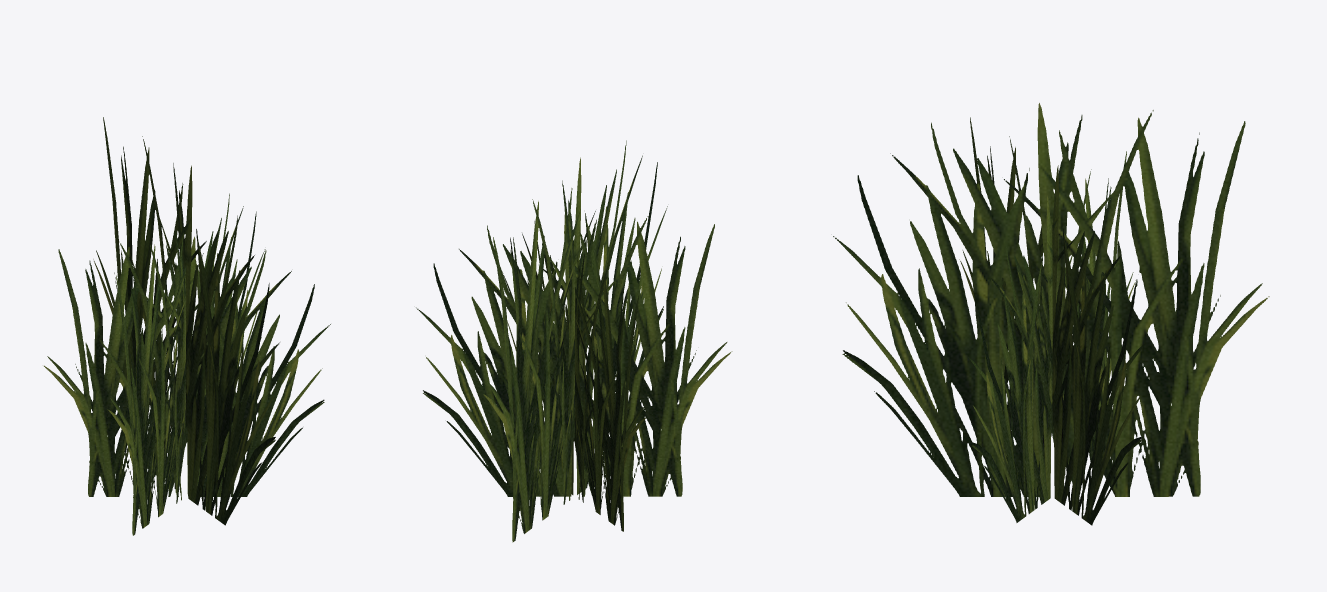
File: grass_1.fbx
3 views of the same model, side by side, from view 1: azimuth 30°, elevation 25°; view 2: azimuth 150°, elevation 25°; view 3: azimuth 270°, elevation 25° (orthographic). The views are drawn at different scales.
Visible parts, largest first — view 1: grass_1; view 2: grass_1; view 3: grass_1.
Boxes of the visible parts, bbox=[...] form: grass_1: bbox=[44, 117, 330, 535]; grass_1: bbox=[416, 140, 732, 542]; grass_1: bbox=[833, 103, 1269, 525].
Size of the model in its own units: 0.4818 by 0.6539 by 0.6539.
1 material, 1 textured.
